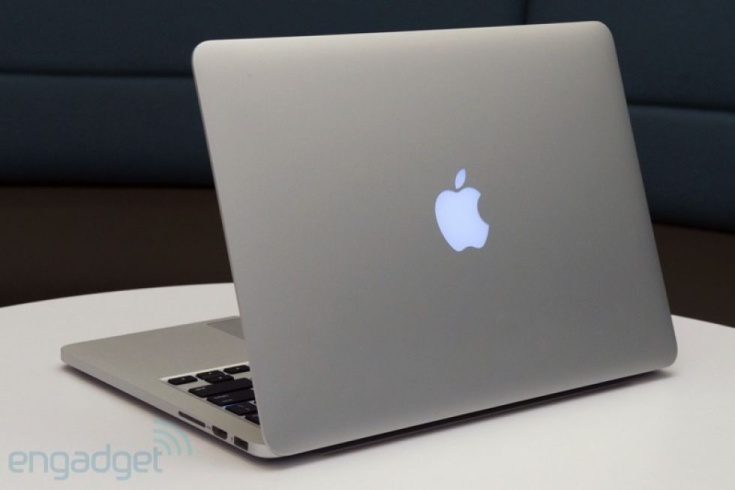apple: (423, 155, 500, 258)
